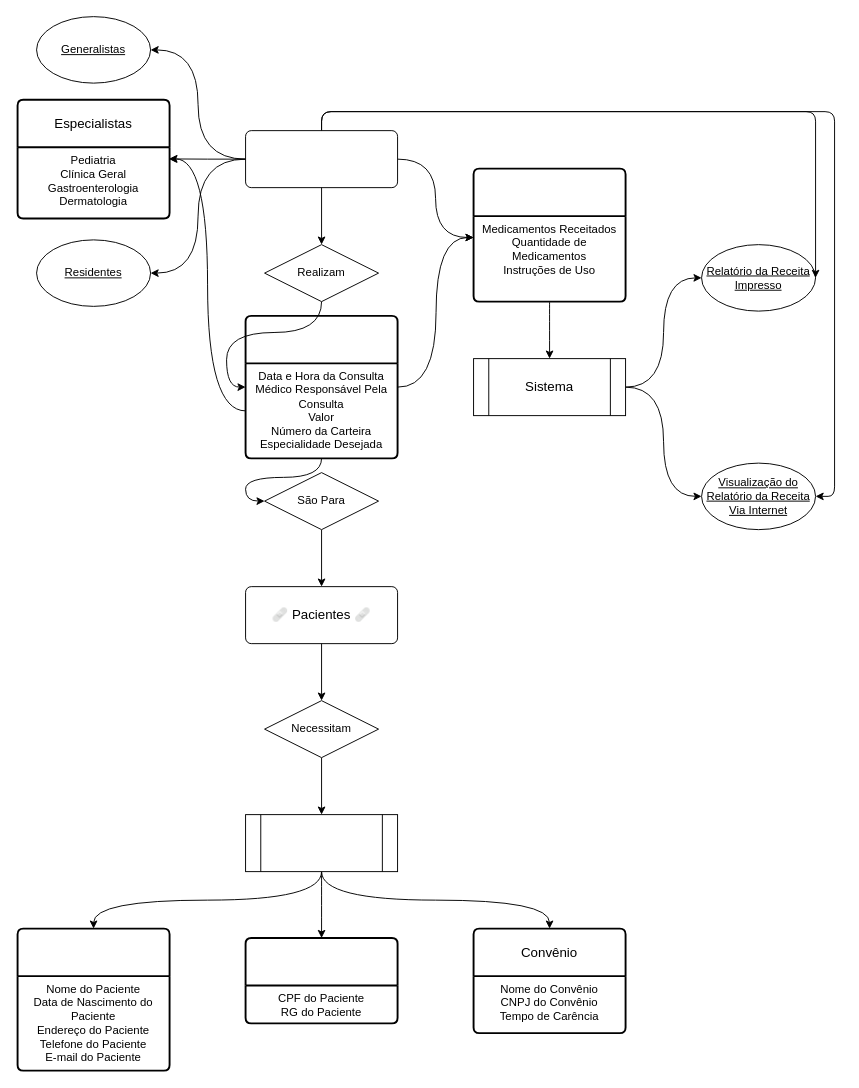
This 859x1088 diagram has some shape labels left out. The shapes that lost their labels are listed below. From the top down, each one's box as (x1, y1, x2, y2) in pixels, then its label:
(245, 130, 398, 188): 🥼 Médicos 🥼
(472, 167, 626, 302): Receitas do Médico
(244, 314, 398, 459): 🔎 Consultas 🔎
(245, 814, 398, 872): Cadastro
(16, 927, 170, 1071): Dados Pessoais
(244, 937, 398, 1024): Documentos
